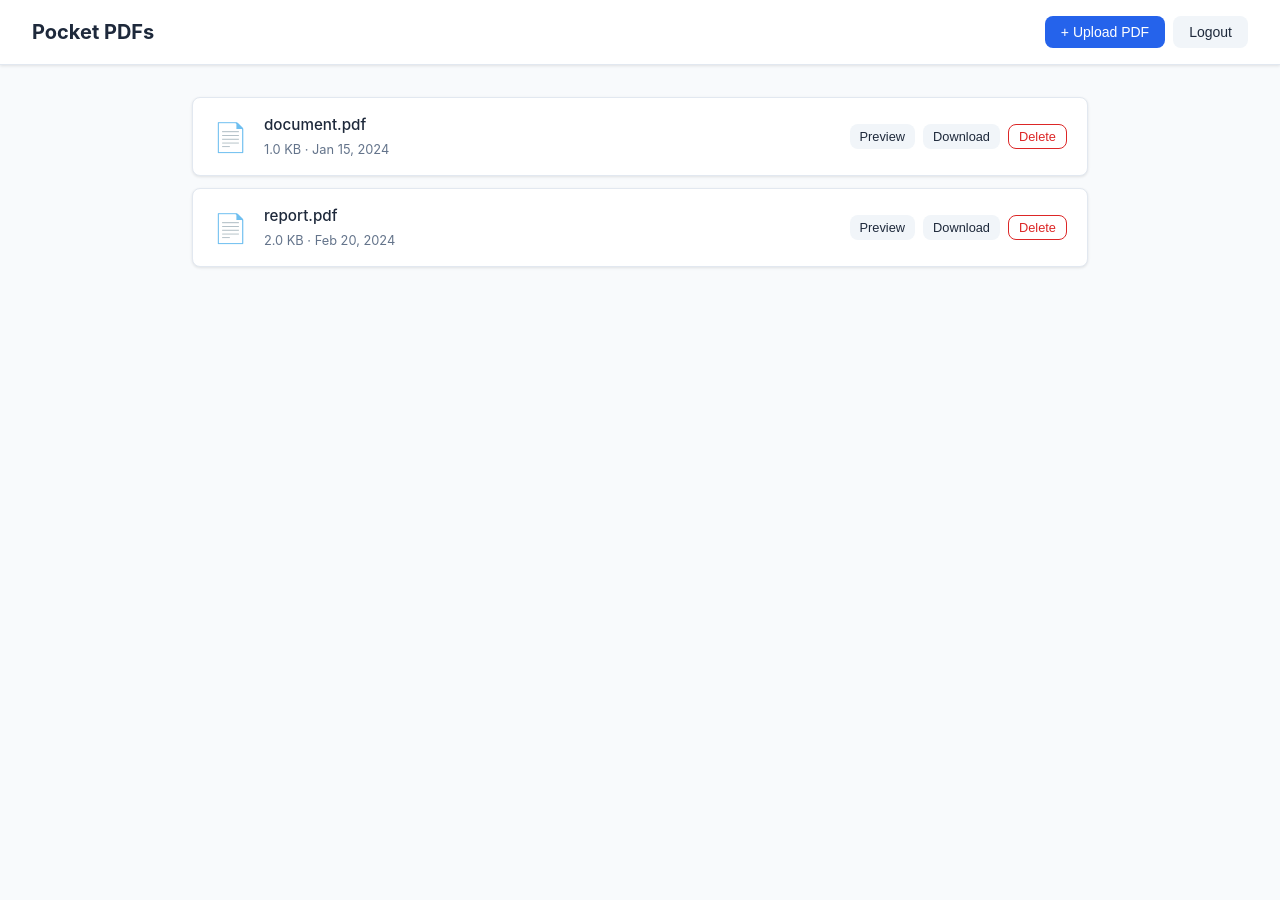
Test: Dashboard › upload modal › opens the upload modal when Upload PDF is clicked
Check: the text "document.pdf" is shown, box [264,115,366,134]
Click the button "+ Upload PDF" at {"x": 1105, "y": 32}, box [1045,16,1165,48]
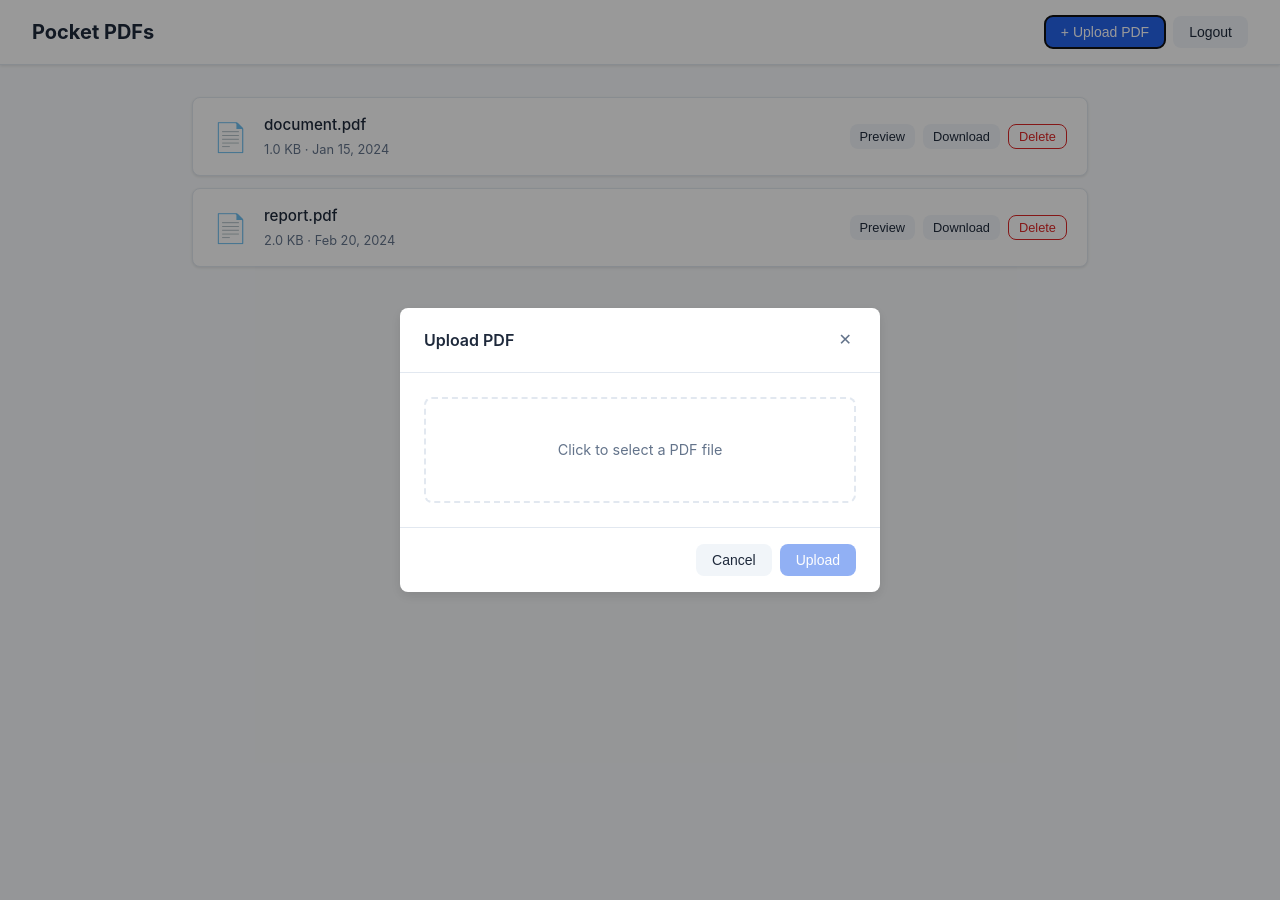
Check: the heading "Upload PDF" is shown, box [424,328,514,352]
